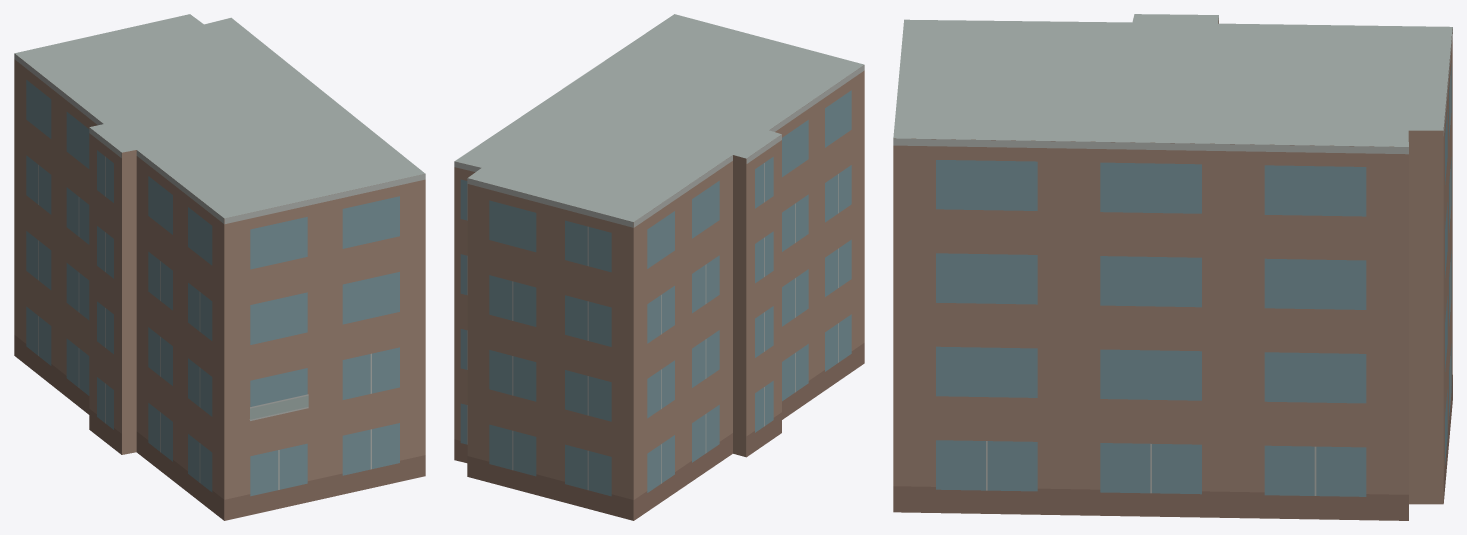
Rendered from survey-upis-32707610.glb.
3 views of the same model, side by side, from view 1: azimuth 30°, elevation 25°; view 2: azimuth 150°, elevation 25°; view 3: azimuth 270°, elevation 25° (orthographic). The views are drawn at different scales.
Visible parts, largest first — view 1: survey-upis-32707610.tmp; view 2: survey-upis-32707610.tmp; view 3: survey-upis-32707610.tmp.
Part boxes in pixels (<box>): survey-upis-32707610.tmp: <box>14,14,425,520</box>; survey-upis-32707610.tmp: <box>454,14,864,520</box>; survey-upis-32707610.tmp: <box>893,14,1452,520</box>.
Size of the model in its own units: 9.7 by 12.7 by 17.23.
